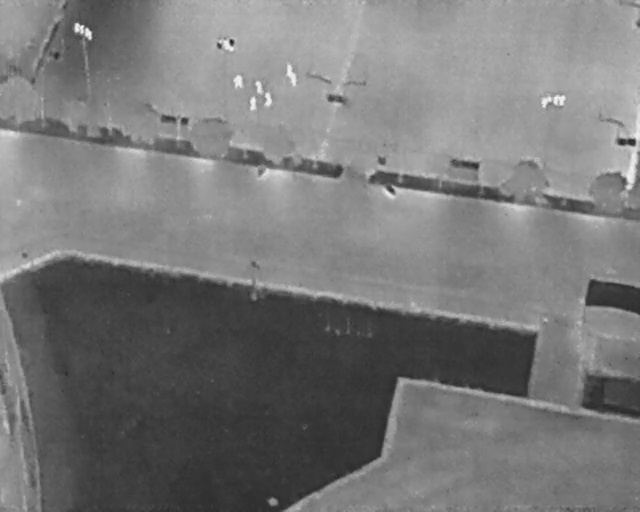Person: (233, 73, 244, 88), (255, 79, 264, 95), (264, 91, 272, 108), (285, 62, 293, 77), (290, 71, 298, 86), (250, 95, 257, 111)
